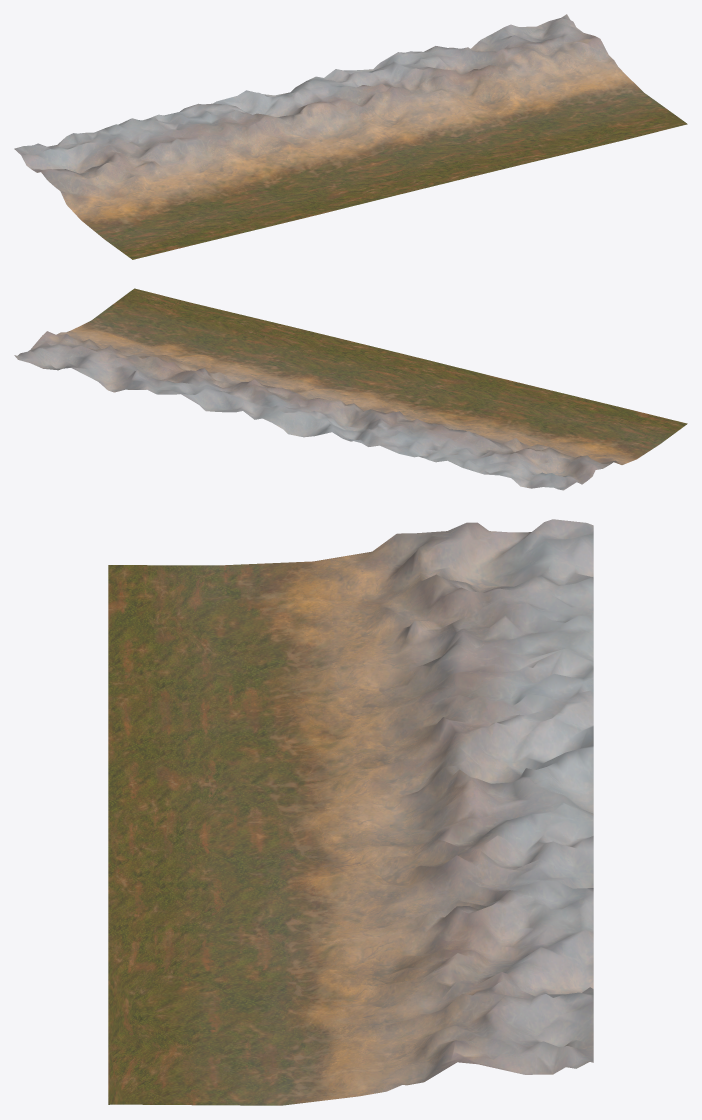
The model's file is terrain.obj.
3 renders of one model, top to bottom at view 1: azimuth 30°, elevation 25°; view 2: azimuth 150°, elevation 25°; view 3: azimuth 270°, elevation 25°, orthographic. The views are drawn at different scales.
Visible parts, largest first — view 1: terrain; view 2: terrain; view 3: terrain.
Boxes of the visible parts, x1,y1,x2,y2 form: terrain: (14,14,687,259); terrain: (14,288,687,490); terrain: (108,519,593,1105).
Size of the model in its own units: 564588 by 24957 by 214345.
1 material, 1 textured.
